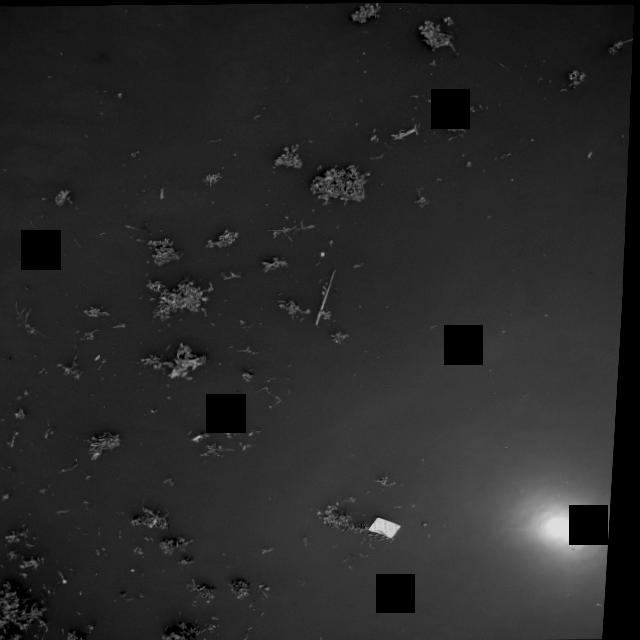plastic: (372, 515, 415, 537), (305, 535, 319, 546)
